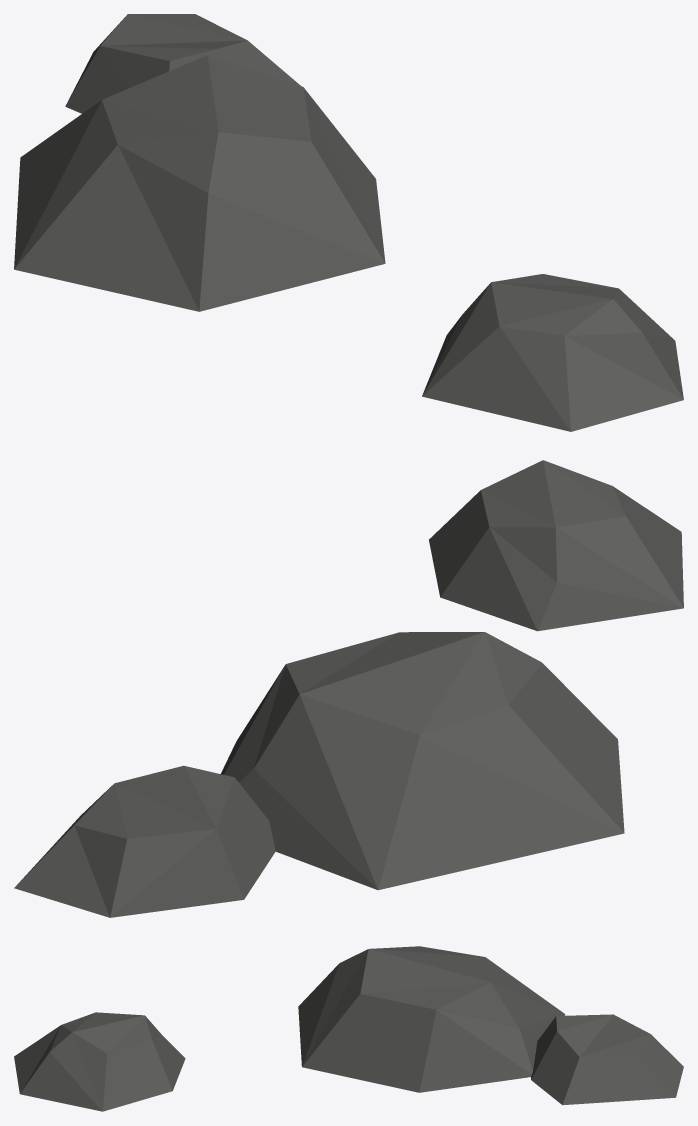
Rendered from SM_Generic_Small_Rocks_02.glb.
The picture shows the model from 3 angles, top to bottom: view 1: azimuth 30°, elevation 25°; view 2: azimuth 150°, elevation 25°; view 3: azimuth 270°, elevation 25°; orthographic projection. The views are drawn at different scales.
Visible parts, largest first — view 1: SM_Generic_Small_Rocks_02; view 2: SM_Generic_Small_Rocks_02; view 3: SM_Generic_Small_Rocks_02.
Part boxes in pixels (x1=…): SM_Generic_Small_Rocks_02: x1=14, y1=14, x2=683, y2=431; SM_Generic_Small_Rocks_02: x1=14, y1=460, x2=683, y2=917; SM_Generic_Small_Rocks_02: x1=14, y1=946, x2=683, y2=1111.
Bounding box in the file's own units: 0.3569 × 0.0991 × 0.7434.
1 material, 1 textured.
